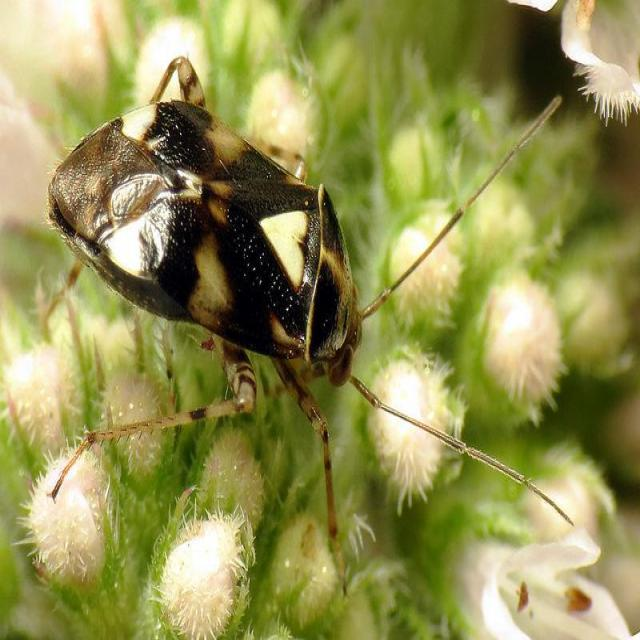Miridae-Adult-: (34, 30, 584, 553)
